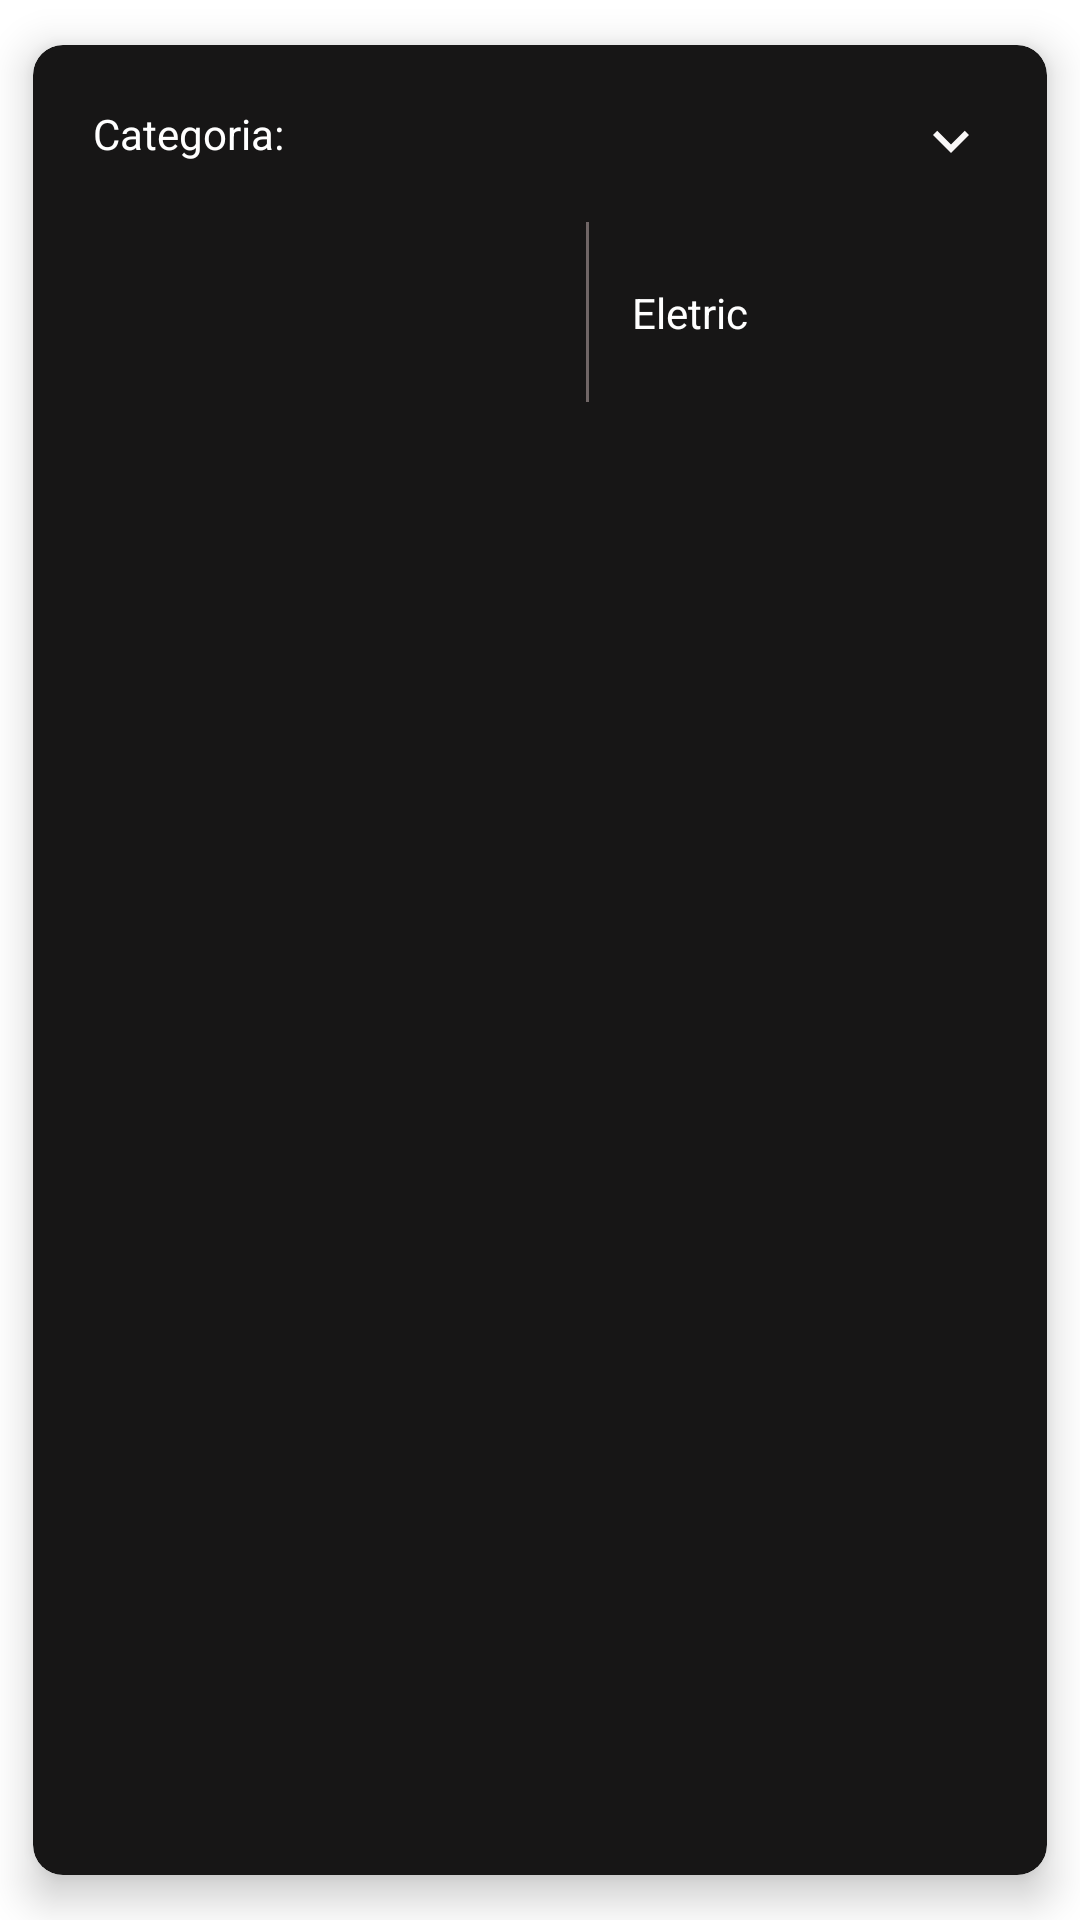

Icon bounding boxes for this 1080w x 1920h phone screenshot, format {"left": x1, "top": y1, "right": x2, "bottom": y2}:
expand more: {"left": 933, "top": 131, "right": 969, "bottom": 153}
